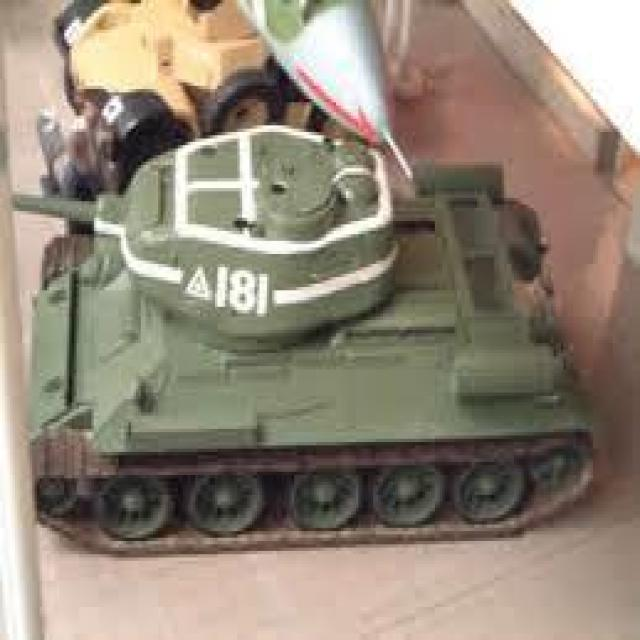Tanks: (18, 142, 584, 554)
